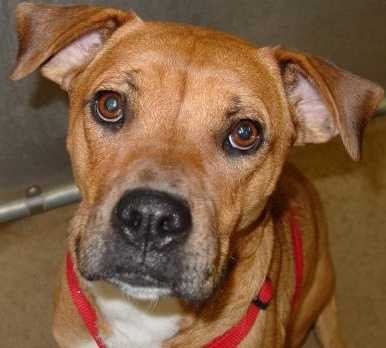Dog: (42, 16, 382, 347)
